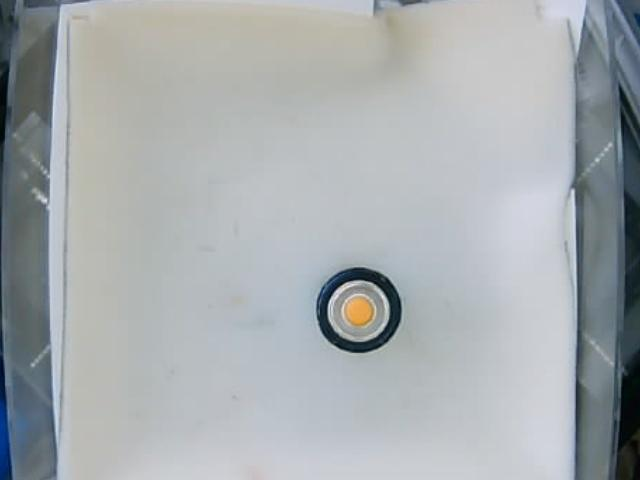Battery: (314, 264, 405, 357)
